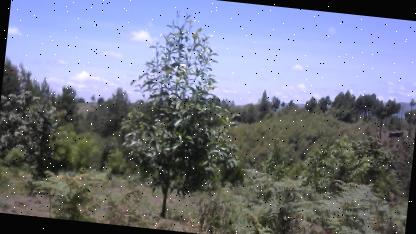tree: (110, 1, 249, 223)
